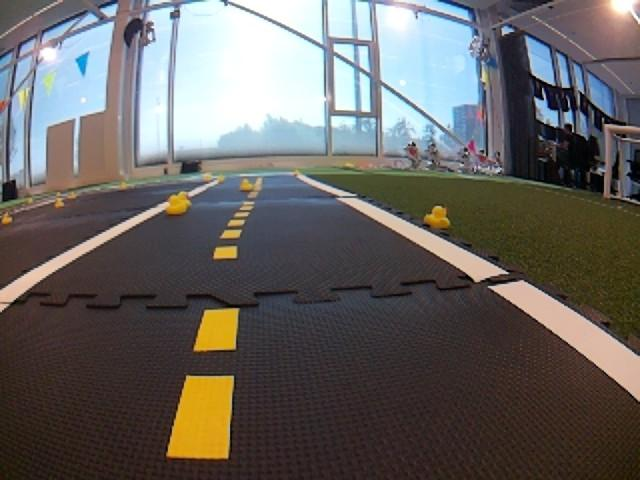Duckies: (423, 206, 450, 228), (165, 198, 188, 214), (239, 180, 254, 189), (55, 198, 65, 208), (2, 212, 11, 223), (203, 172, 212, 182), (118, 182, 128, 190), (293, 168, 301, 176), (217, 176, 226, 182), (68, 194, 76, 199), (28, 197, 33, 205), (56, 192, 61, 197)
